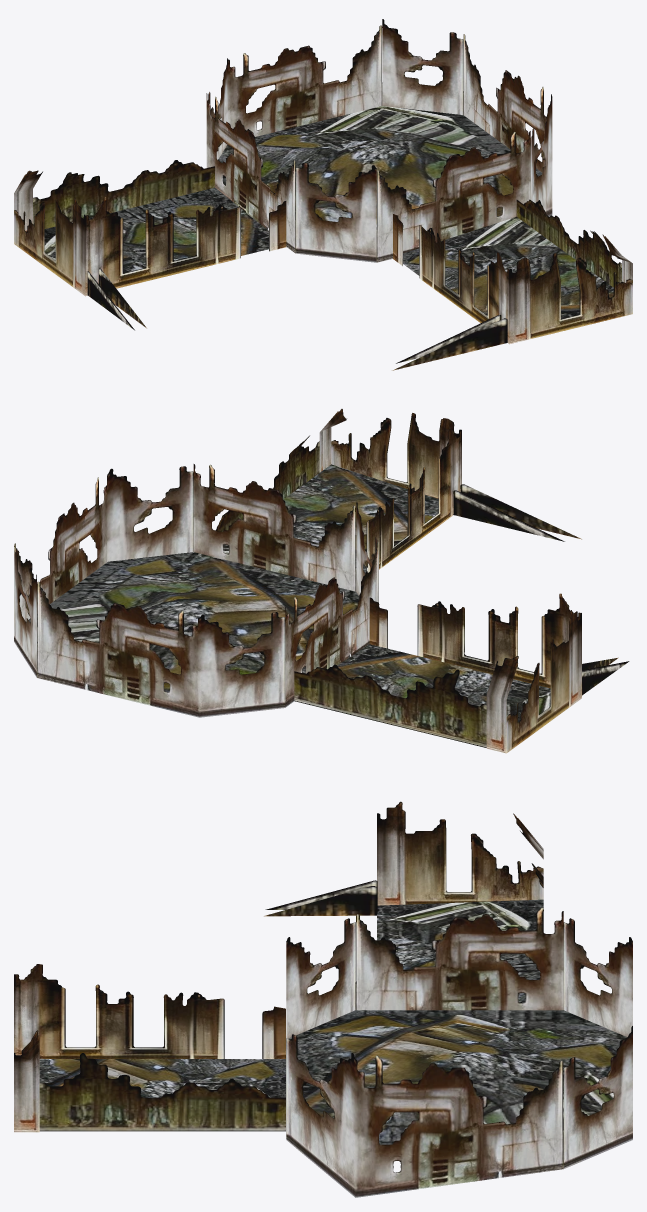
File: l_spotlightcontrol_dam_hdtex.glb
3 renders of one model, top to bottom at view 1: azimuth 30°, elevation 25°; view 2: azimuth 150°, elevation 25°; view 3: azimuth 270°, elevation 25°, orthographic. The views are drawn at different scales.
Visible parts, largest first — view 1: L_SpotlightControlDAM; view 2: L_SpotlightControlDAM; view 3: L_SpotlightControlDAM.
Boxes of the visible parts, x1=… form: L_SpotlightControlDAM: x1=14, y1=19, x2=632, y2=370; L_SpotlightControlDAM: x1=14, y1=409, x2=629, y2=753; L_SpotlightControlDAM: x1=14, y1=801, x2=632, y2=1197.
Size of the model in its own units: 17.83 by 4.91 by 17.85.
2 materials, 2 textured.
